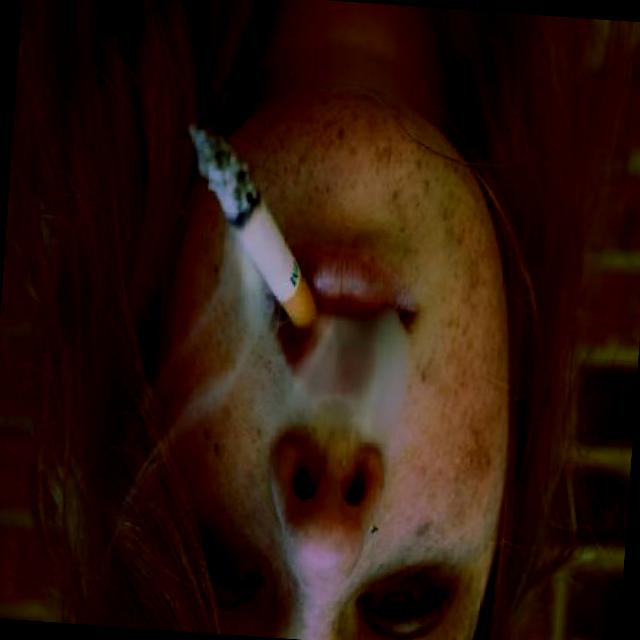smoke: (166, 98, 352, 380)
